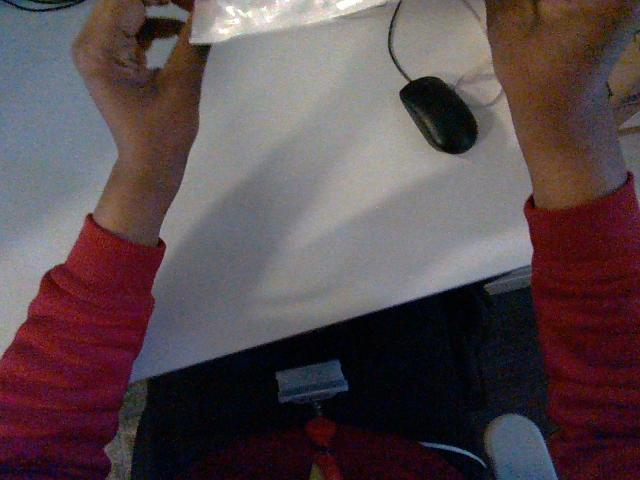syringe: (191, 0, 387, 43)
